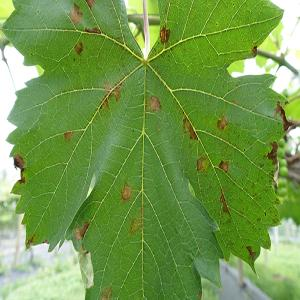Folha: (2, 0, 289, 298)
Fungo: (274, 136, 288, 204), (273, 100, 293, 132), (276, 138, 288, 177), (182, 117, 198, 141), (104, 81, 122, 102), (69, 3, 83, 25), (85, 171, 96, 199), (74, 222, 90, 241), (146, 94, 162, 112), (219, 193, 231, 217), (128, 216, 142, 235), (266, 140, 278, 162), (120, 181, 132, 201), (276, 178, 288, 198), (25, 232, 36, 251), (13, 153, 24, 171), (216, 114, 228, 130), (160, 25, 170, 44), (246, 245, 256, 262), (196, 156, 206, 172), (100, 286, 112, 299), (273, 160, 279, 186), (218, 159, 228, 173), (85, 26, 101, 34), (75, 41, 83, 56), (63, 130, 73, 142), (279, 166, 288, 176), (85, 0, 95, 9), (276, 147, 284, 158), (114, 87, 120, 101), (182, 116, 187, 132), (104, 96, 110, 109), (251, 45, 257, 57), (220, 192, 224, 202)
